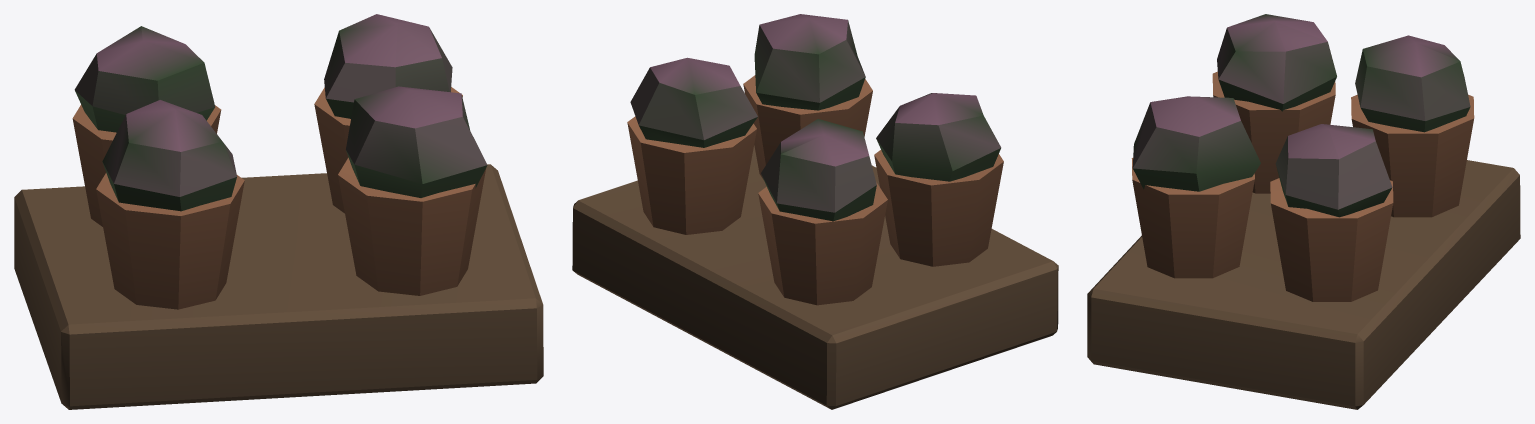
File: ph_item_flower_seedlings.glb
The picture shows the model from 3 angles, left to right: view 1: azimuth 30°, elevation 25°; view 2: azimuth 150°, elevation 25°; view 3: azimuth 270°, elevation 25°; orthographic projection. The views are drawn at different scales.
Visible parts, largest first — view 1: ph_item_flower_seedlings; view 2: ph_item_flower_seedlings; view 3: ph_item_flower_seedlings.
Part boxes in pixels (x1,y1,x2,y2): ph_item_flower_seedlings: (14,14,543,409); ph_item_flower_seedlings: (572,14,1058,409); ph_item_flower_seedlings: (1087,14,1520,409).
Bounding box in the file's own units: 0.3054 × 0.1581 × 0.2609.
